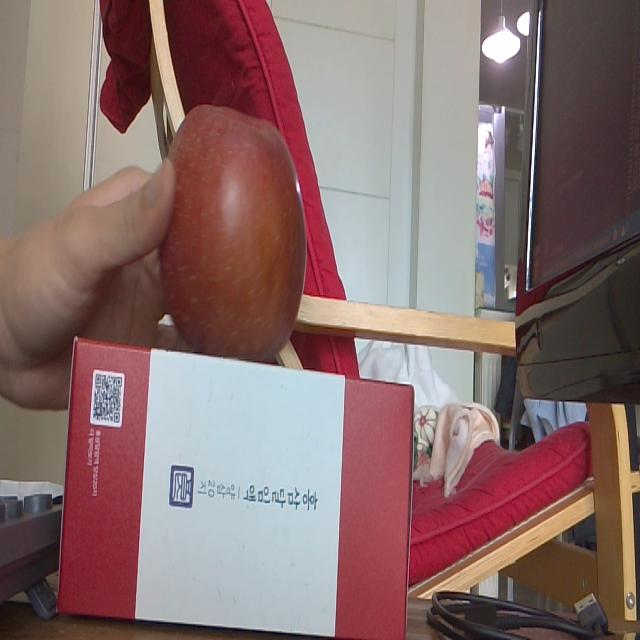apple: (160, 103, 306, 364)
